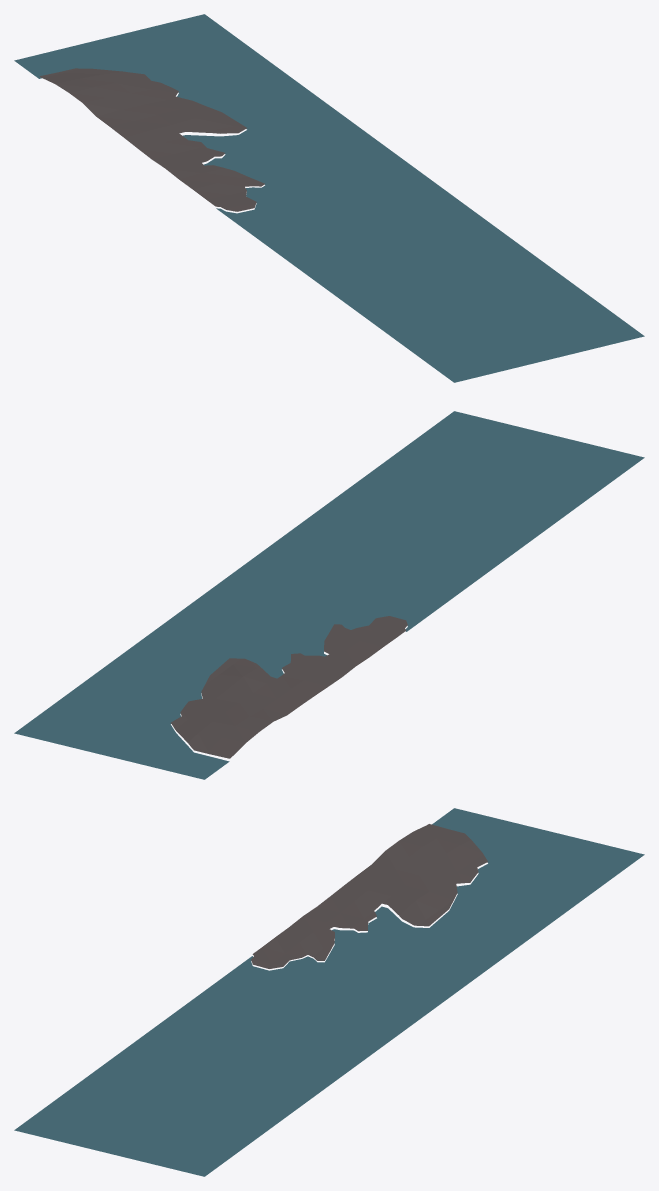
3 views of the same model, one above another, from view 1: azimuth 30°, elevation 25°; view 2: azimuth 150°, elevation 25°; view 3: azimuth 330°, elevation 25° (orthographic).
Parts seen in each view (by area): view 1: c_p06_p10; view 2: c_p06_p10; view 3: c_p06_p10.
Part boxes in pixels (left/top/right/bottom): c_p06_p10: left=14, top=14, right=644, bottom=382; c_p06_p10: left=14, top=411, right=644, bottom=779; c_p06_p10: left=14, top=808, right=644, bottom=1176.
Bounding box in the file's own units: 32 × 1.26 × 128.
